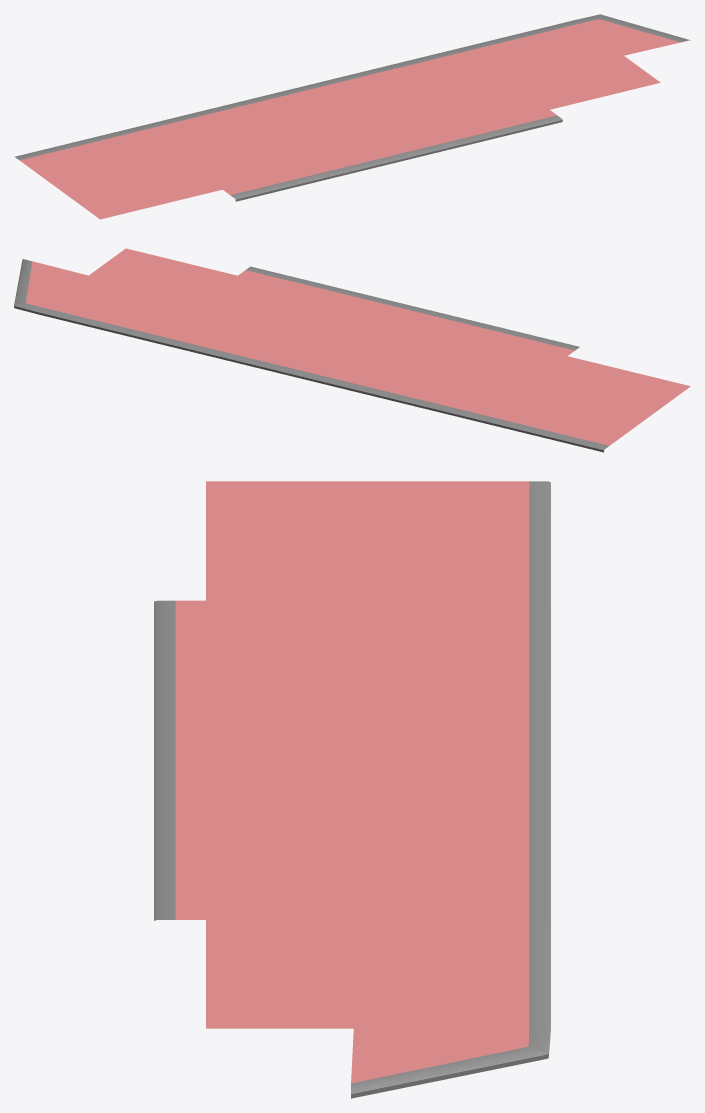
File: S_Envi_Umeda_Base_Building_06e.gltf
3 renders of one model, top to bottom at view 1: azimuth 30°, elevation 25°; view 2: azimuth 150°, elevation 25°; view 3: azimuth 270°, elevation 25°, orthographic. The views are drawn at different scales.
Visible parts, largest first — view 1: S_Envi_Umeda_Base_Building_06e; view 2: S_Envi_Umeda_Base_Building_06e; view 3: S_Envi_Umeda_Base_Building_06e.
Part boxes in pixels (box(x1,y1,x2,y2)): S_Envi_Umeda_Base_Building_06e: box(14, 14, 690, 219); S_Envi_Umeda_Base_Building_06e: box(14, 248, 690, 452); S_Envi_Umeda_Base_Building_06e: box(154, 481, 550, 1098).
Size of the model in its own units: 10.07 by 0.0421 by 2.76.
